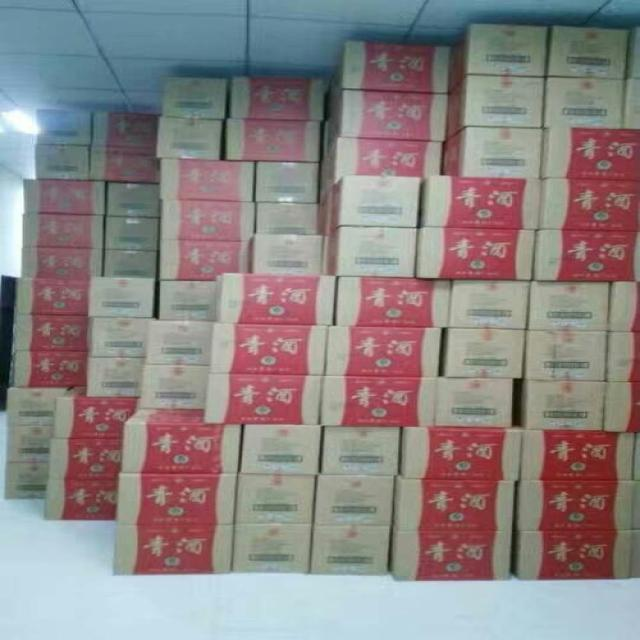box: (119, 410, 242, 474), (325, 42, 451, 102), (323, 91, 449, 146), (445, 24, 549, 89), (419, 175, 541, 230), (321, 138, 445, 191), (215, 271, 335, 325), (401, 427, 521, 481), (415, 228, 536, 281), (111, 525, 233, 577), (396, 478, 515, 531), (513, 528, 631, 581), (447, 75, 544, 139), (207, 323, 326, 375), (324, 325, 442, 377), (323, 375, 438, 428), (204, 374, 323, 425), (334, 277, 453, 328), (394, 531, 512, 582), (116, 475, 238, 523), (319, 174, 421, 231), (516, 482, 631, 531), (532, 230, 640, 282), (524, 430, 634, 481), (440, 127, 544, 178), (536, 179, 640, 230), (540, 127, 640, 180), (321, 225, 417, 279), (545, 27, 630, 80), (312, 474, 397, 525), (545, 76, 625, 130), (228, 76, 326, 120), (521, 381, 604, 432), (444, 328, 525, 380), (221, 119, 321, 161), (234, 475, 316, 525), (319, 426, 401, 476), (529, 281, 609, 332), (242, 424, 323, 474), (525, 332, 605, 382), (160, 160, 255, 202), (311, 526, 392, 575), (451, 281, 530, 331), (233, 526, 312, 575), (435, 379, 513, 428), (160, 202, 256, 241), (159, 240, 252, 279), (143, 319, 216, 366), (138, 364, 211, 411), (50, 399, 136, 438), (42, 479, 119, 522), (20, 212, 105, 249), (6, 389, 86, 428), (47, 438, 123, 478), (87, 276, 156, 320), (10, 351, 91, 388), (248, 235, 324, 274), (155, 116, 223, 159), (22, 180, 105, 215), (161, 76, 228, 119), (14, 315, 90, 352), (17, 276, 90, 314), (91, 145, 161, 184), (255, 161, 320, 202), (91, 110, 160, 148), (88, 316, 150, 357), (20, 247, 104, 276), (86, 357, 143, 397), (157, 282, 215, 320), (35, 143, 92, 181), (35, 109, 91, 145), (602, 381, 640, 433), (256, 203, 319, 234), (3, 425, 54, 463), (104, 217, 159, 251), (605, 280, 640, 332), (604, 332, 640, 382), (108, 182, 159, 217), (3, 462, 47, 500), (104, 250, 159, 279)
